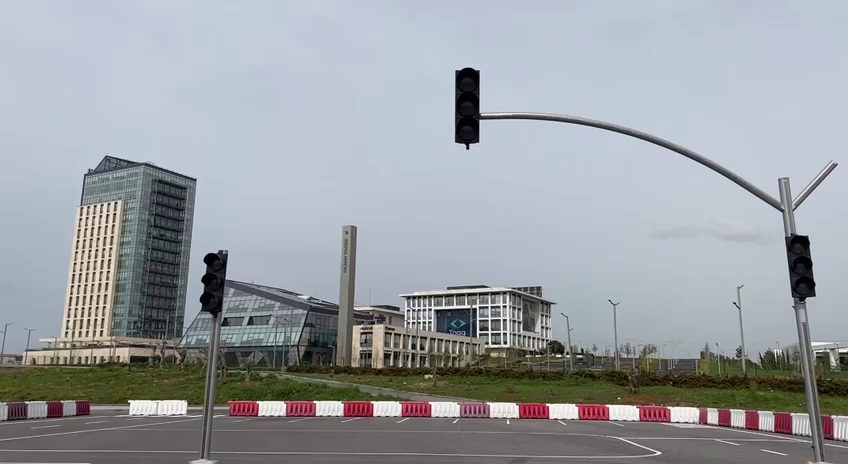trafficLight: (450, 63, 485, 152), (783, 231, 820, 301), (195, 248, 229, 319)
